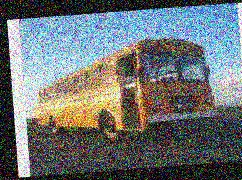bus: (30, 33, 219, 149)
